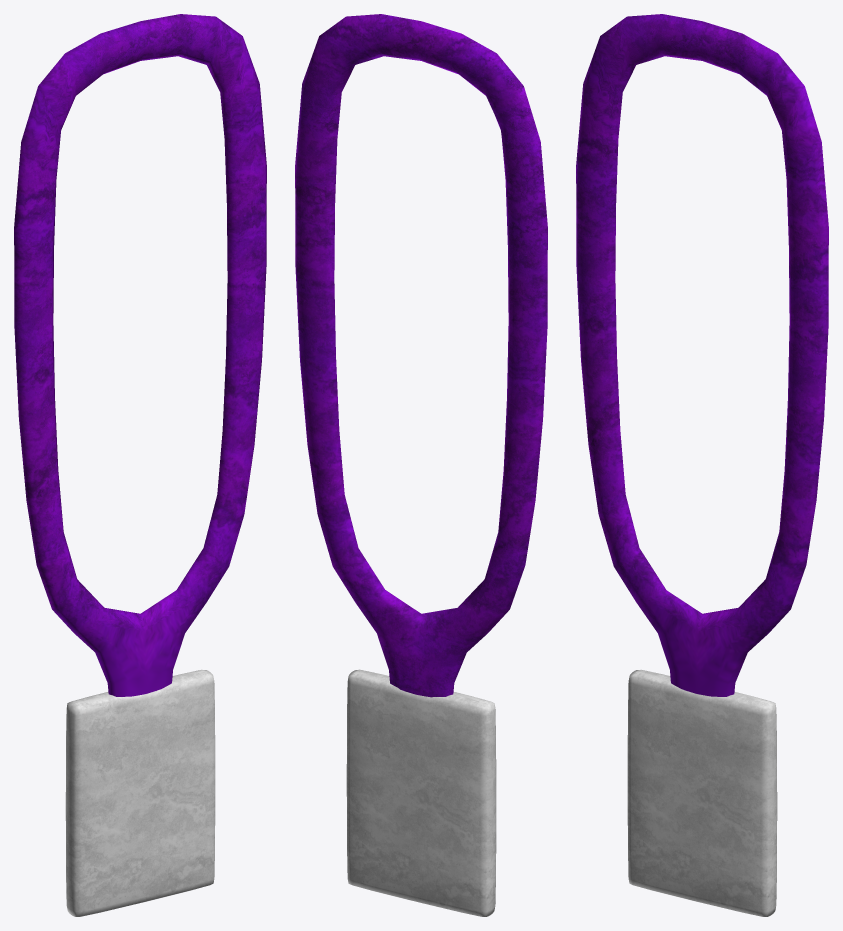
3 renders of one model, left to right at view 1: azimuth 30°, elevation 25°; view 2: azimuth 150°, elevation 25°; view 3: azimuth 330°, elevation 25°, orthographic.
Visible parts, largest first — view 1: Cube; view 2: Cube; view 3: Cube.
Part boxes in pixels (x1,y1,x2,y2): Cube: [14, 14, 266, 916]; Cube: [295, 14, 547, 916]; Cube: [576, 14, 828, 916].
Size of the model in its own units: 33.77 by 112 by 3.24.
Materials: 1 (1 with a texture image).
